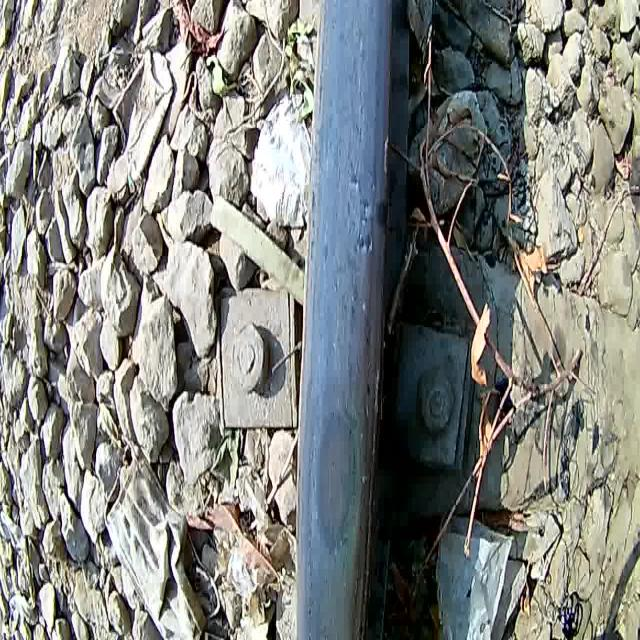Squats: (278, 0, 420, 640)
